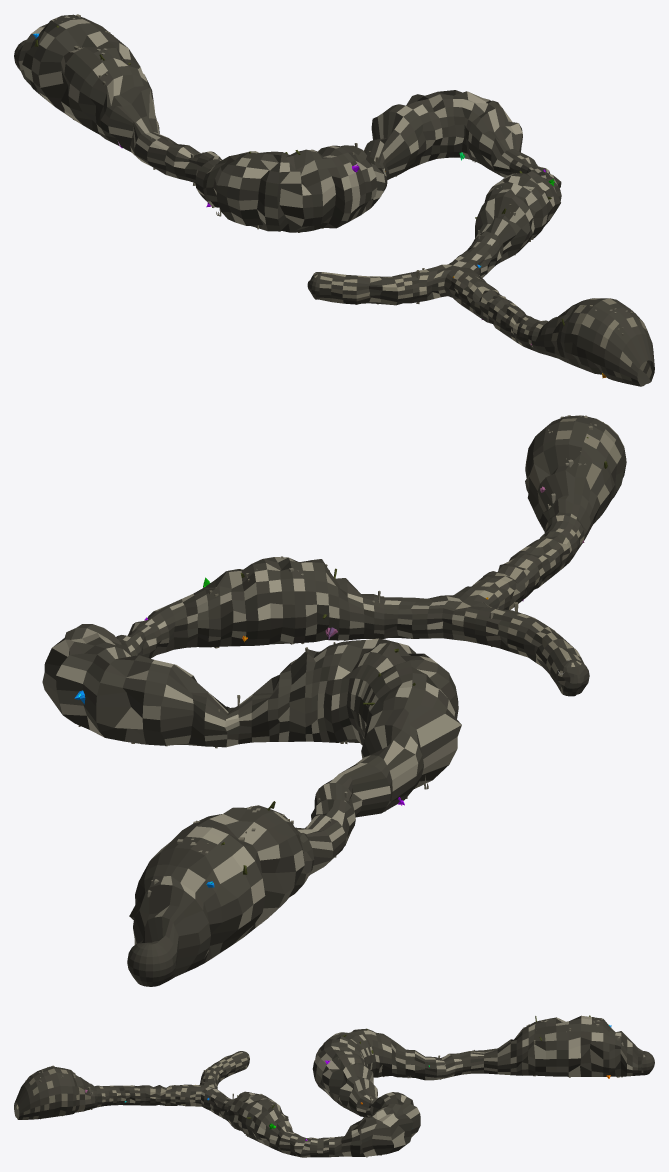
The model's file is CuevaConAlgoDeVegetacion.fbx.
3 renders of one model, top to bottom at view 1: azimuth 30°, elevation 25°; view 2: azimuth 150°, elevation 25°; view 3: azimuth 270°, elevation 25°, orthographic. The views are drawn at different scales.
Visible parts, largest first — view 1: Cueva; view 2: Cueva; view 3: Cueva.
Part boxes in pixels (x1,y1,x2,y2): Cueva: [14, 14, 654, 386]; Cueva: [42, 415, 626, 986]; Cueva: [14, 1015, 654, 1157].
Bounding box in the file's own units: 865 × 220 × 2289.
